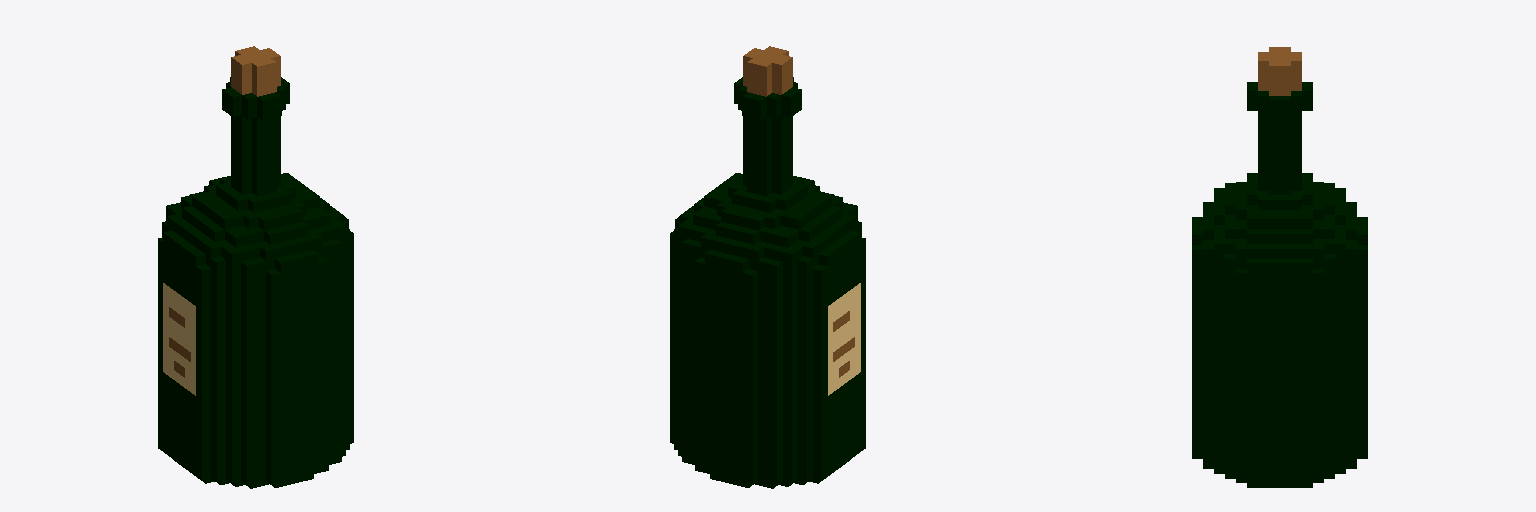
The picture shows the model from 3 angles: view 1: azimuth 30°, elevation 25°; view 2: azimuth 150°, elevation 25°; view 3: azimuth 270°, elevation 25°; orthographic projection.
Visible parts, largest first — view 1: object 1; view 2: object 1; view 3: object 1.
Boxes of the visible parts, <box> form: object 1: <box>158,46,353,488</box>; object 1: <box>670,46,865,488</box>; object 1: <box>1192,47,1367,487</box>.
Bounding box in the file's own units: 1.6 × 4 × 1.6.
Materials: 1 (1 with a texture image).